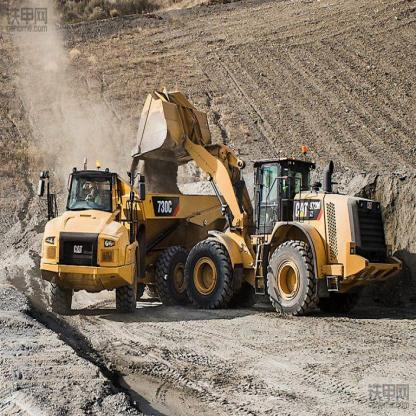bull_dozer/loader/grader: (130, 79, 402, 318)
dump_truck: (39, 157, 210, 329)
